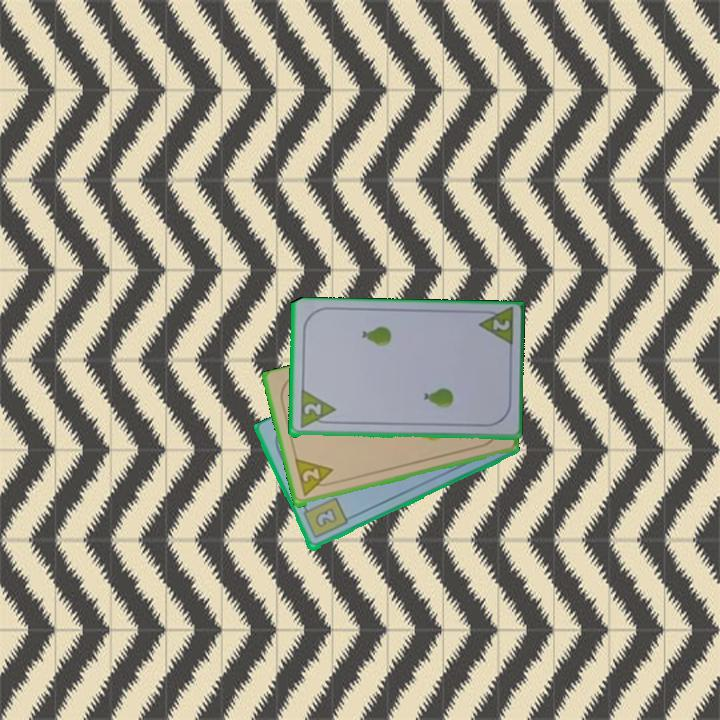2b: (299, 494, 350, 542)
2p: (291, 456, 338, 500), (300, 400, 324, 419), (489, 316, 513, 334)
